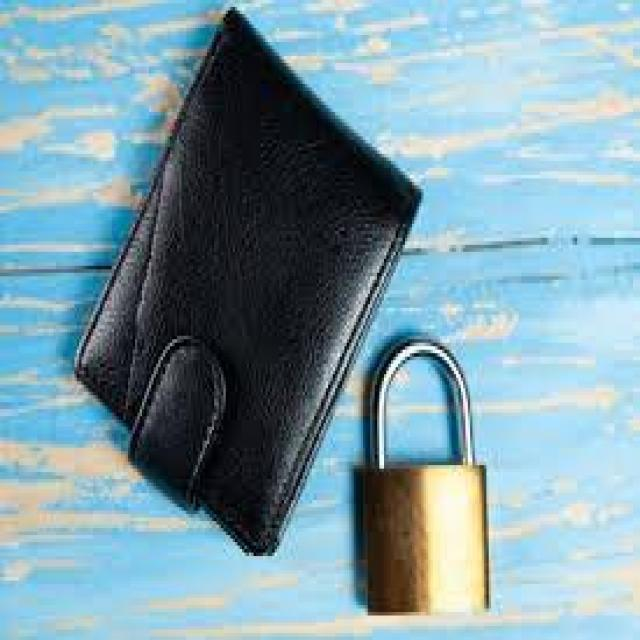cuzdan: (82, 5, 420, 544)
